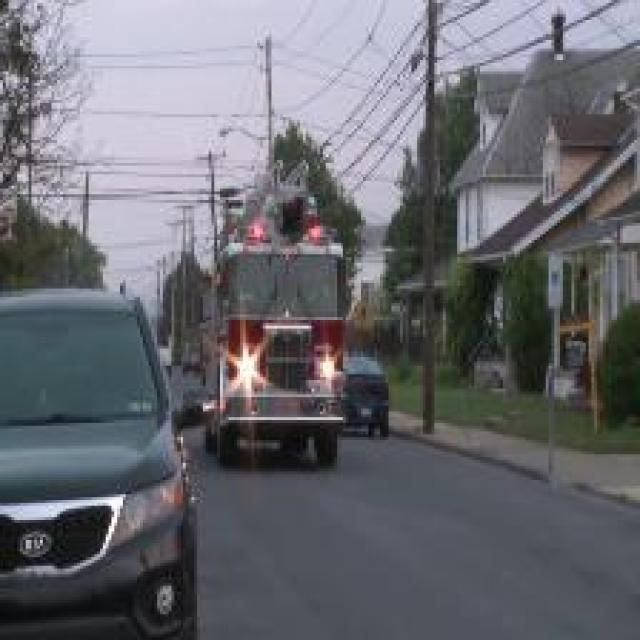other: (207, 338, 349, 408), (197, 213, 347, 244)
